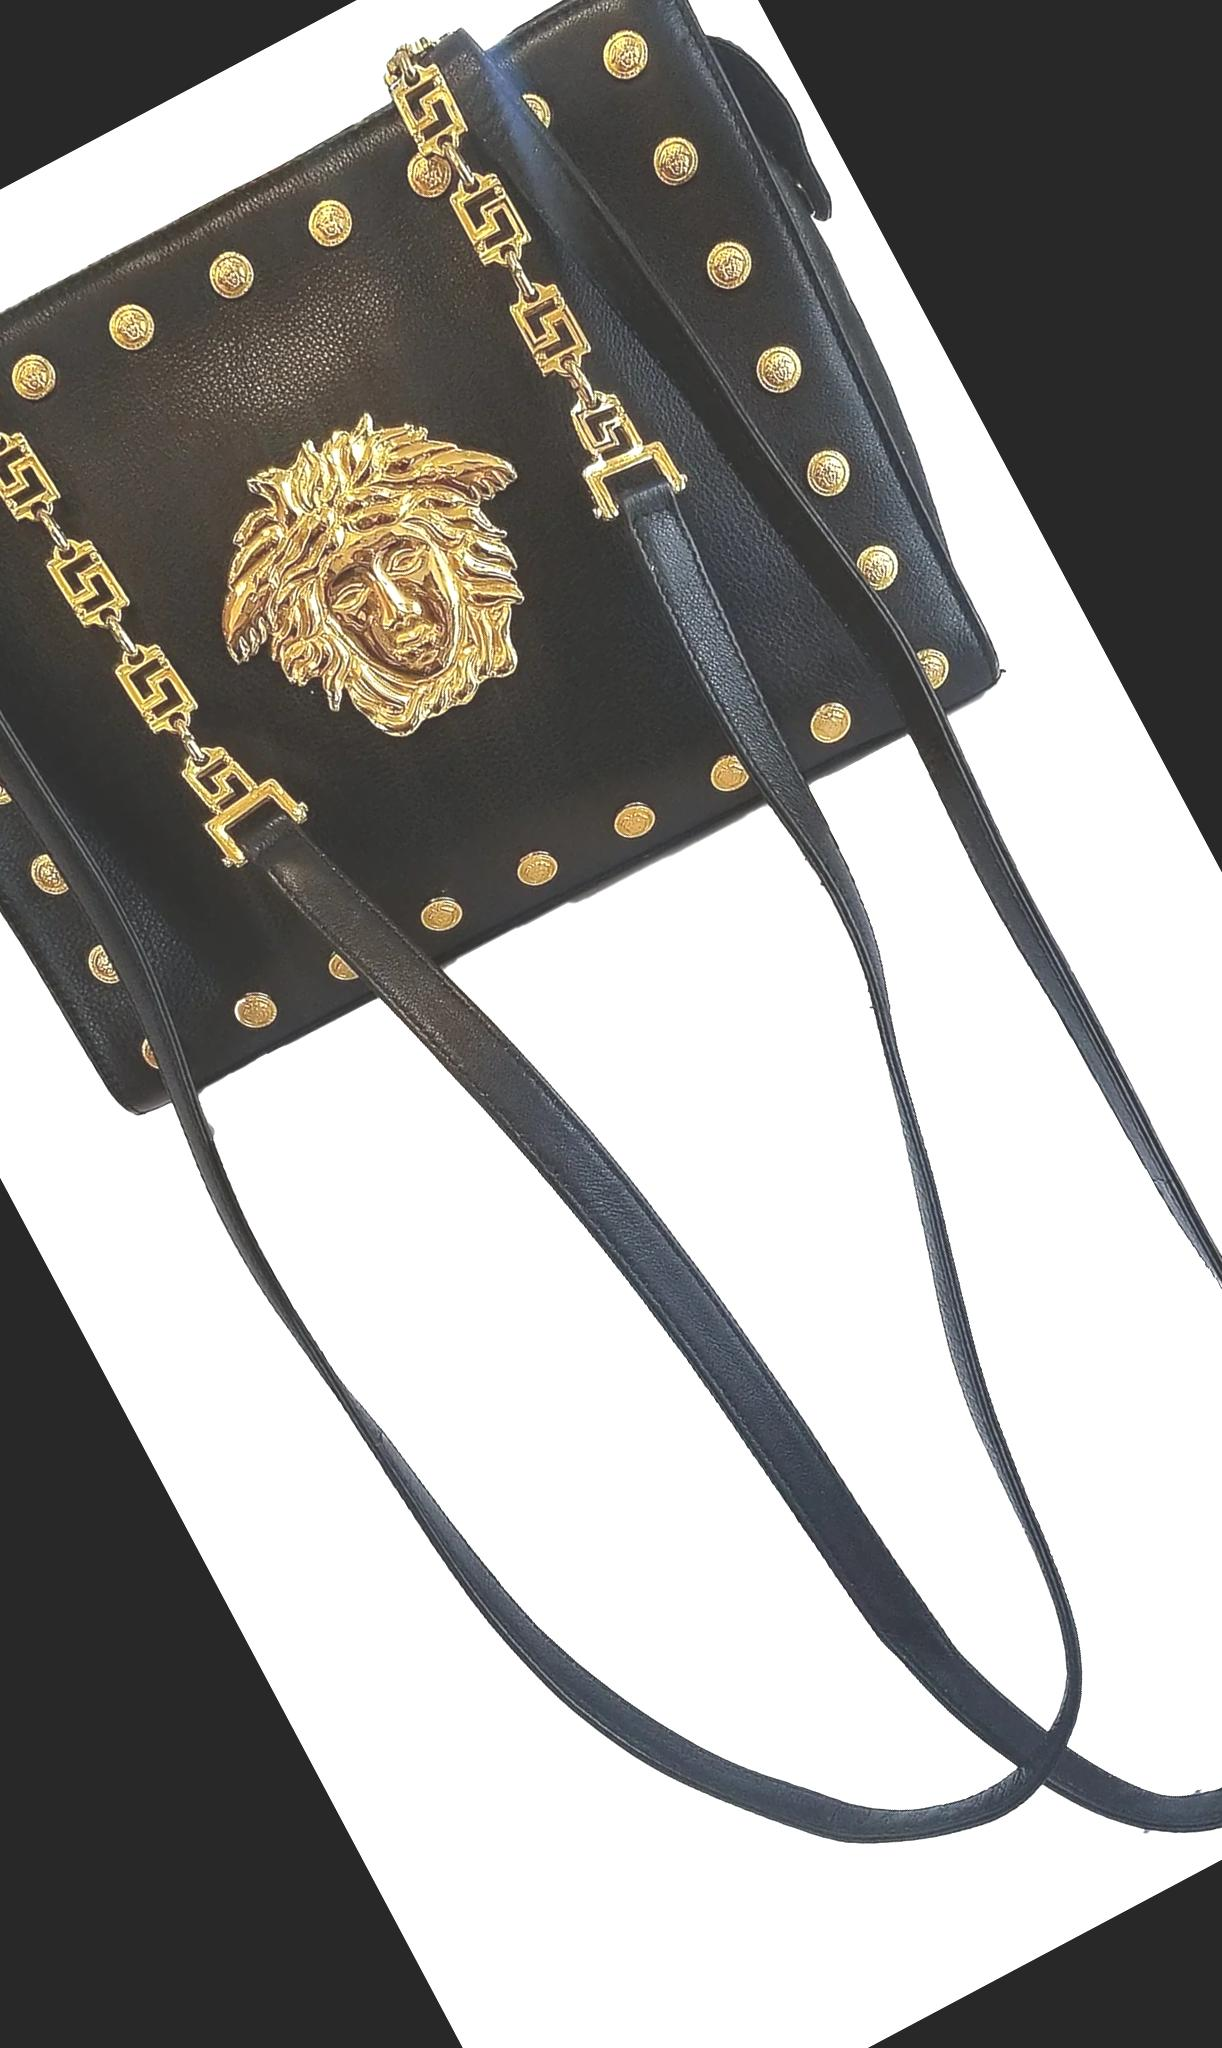VERSACE: (156, 355, 610, 794)
